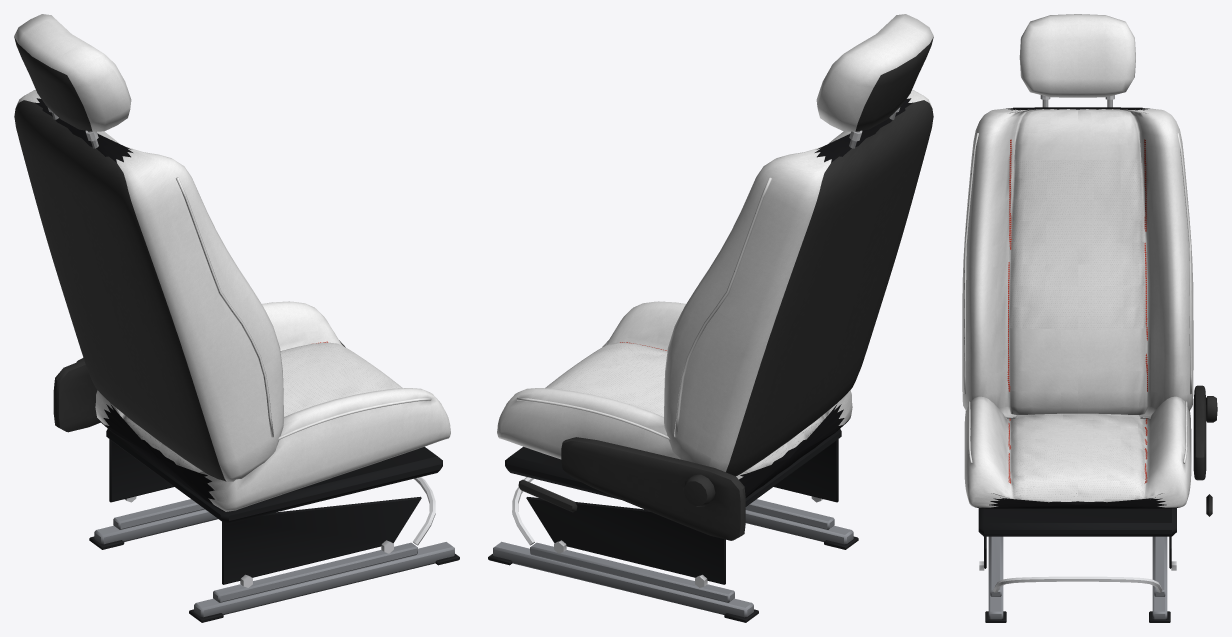
The model's file is seat-lo-v1.glb.
3 views of the same model, side by side, from view 1: azimuth 30°, elevation 25°; view 2: azimuth 150°, elevation 25°; view 3: azimuth 270°, elevation 25° (orthographic). The views are drawn at different scales.
Visible parts, largest first — view 1: backrest_pad, base_mesh, cushion.001, headrest_pad, piping_back; view 2: backrest_pad, base_mesh, cushion.001, headrest_pad, piping_back; view 3: backrest_pad, cushion.001, base_mesh, headrest_pad, piping_back, stitching_back, piping_cushion.
Boxes of the visible parts, x1,y1,x2,y2 form: backrest_pad: [14, 89, 283, 481]; base_mesh: [53, 357, 459, 622]; cushion.001: [95, 301, 450, 511]; headrest_pad: [14, 14, 131, 131]; piping_back: [176, 177, 273, 437]; backrest_pad: [664, 89, 933, 476]; base_mesh: [488, 429, 858, 622]; cushion.001: [497, 301, 852, 497]; headrest_pad: [816, 14, 933, 131]; piping_back: [674, 177, 772, 437]; backrest_pad: [962, 107, 1193, 418]; cushion.001: [964, 396, 1191, 508]; base_mesh: [978, 385, 1217, 622]; headrest_pad: [1019, 14, 1135, 97]; piping_back: [963, 133, 1191, 394]; stitching_back: [1007, 139, 1147, 391]; piping_cushion: [968, 401, 1187, 463].
Size of the model in its own units: 0.8229 by 1.2 by 0.592.
14 materials, 10 textured.
